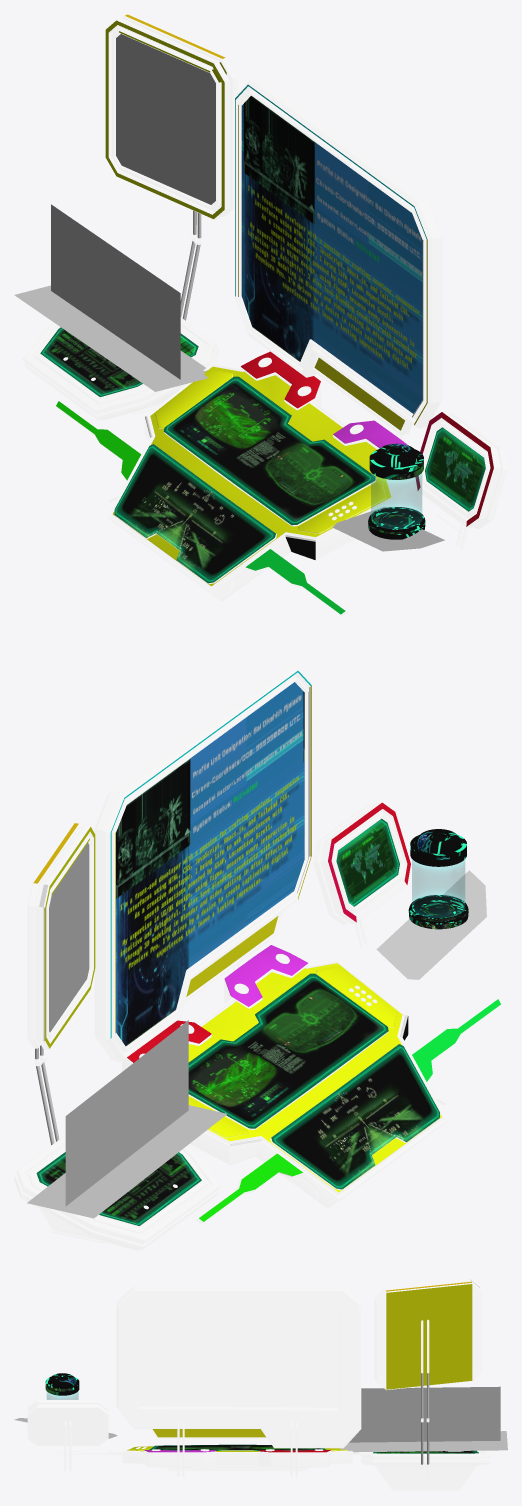
Rendered from sci.gltf.
The picture shows the model from 3 angles, top to bottom: view 1: azimuth 30°, elevation 25°; view 2: azimuth 150°, elevation 25°; view 3: azimuth 270°, elevation 25°; orthographic projection. The views are drawn at different scales.
Visible parts, largest first — view 1: Object_3.895, Object_17, Object_3.009, Object_3.757, Object_3.008, Object_3.141, Object_3.502, Object_3.1108, Object_7, Object_6, Object_3.300, Object_3.856 (+12 smaller); view 2: Object_3.895, Object_17, Object_3.009, Object_3.008, Object_3.141, Object_3.757, Object_3.300, Object_3.502, Object_7, Object_3.1108, Object_6, Object_3.873 (+15 smaller); view 3: Object_3.068, Object_17, Object_3.726, Object_3.066, Object_3.849, Object_3.847, Object_3.1076, Object_3.908, Object_3.067, Object_3.433, Object_3.973, Object_3.772 (+22 smaller).
Boxes of the visible parts, bbox=[...] form: Object_3.895: bbox=[241, 95, 422, 413]; Object_17: bbox=[14, 204, 208, 391]; Object_3.009: bbox=[163, 376, 375, 525]; Object_3.757: bbox=[116, 34, 215, 204]; Object_3.008: bbox=[114, 444, 275, 583]; Object_3.141: bbox=[113, 366, 390, 586]; Object_3.502: bbox=[40, 327, 198, 396]; Object_3.1108: bbox=[425, 427, 485, 511]; Object_7: bbox=[368, 443, 425, 539]; Object_6: bbox=[371, 473, 421, 528]; Object_3.300: bbox=[332, 507, 444, 551]; Object_3.856: bbox=[432, 237, 441, 403]; Object_3.895: bbox=[116, 682, 304, 1046]; Object_17: bbox=[27, 1020, 226, 1218]; Object_3.009: bbox=[188, 973, 388, 1128]; Object_3.008: bbox=[271, 1044, 439, 1189]; Object_3.141: bbox=[188, 963, 441, 1192]; Object_3.757: bbox=[49, 843, 89, 1032]; Object_3.300: bbox=[376, 870, 486, 979]; Object_3.502: bbox=[36, 1152, 201, 1225]; Object_7: bbox=[408, 829, 468, 929]; Object_3.1108: bbox=[336, 818, 399, 906]; Object_6: bbox=[412, 859, 464, 917]; Object_3.873: bbox=[96, 829, 105, 1040]; Object_3.068: bbox=[139, 1310, 339, 1407]; Object_17: bbox=[340, 1386, 507, 1452]; Object_3.726: bbox=[386, 1284, 472, 1389]; Object_3.066: bbox=[119, 1291, 358, 1309]; Object_3.849: bbox=[262, 1410, 359, 1447]; Object_3.847: bbox=[135, 1409, 269, 1427]; Object_3.1076: bbox=[37, 1408, 98, 1445]; Object_3.908: bbox=[340, 1306, 359, 1427]; Object_3.067: bbox=[119, 1305, 138, 1427]; Object_3.433: bbox=[375, 1465, 476, 1488]; Object_3.973: bbox=[152, 1429, 265, 1437]; Object_3.772: bbox=[472, 1284, 481, 1380].
Size of the model in its own units: 1.34 by 2.37 by 4.5.
